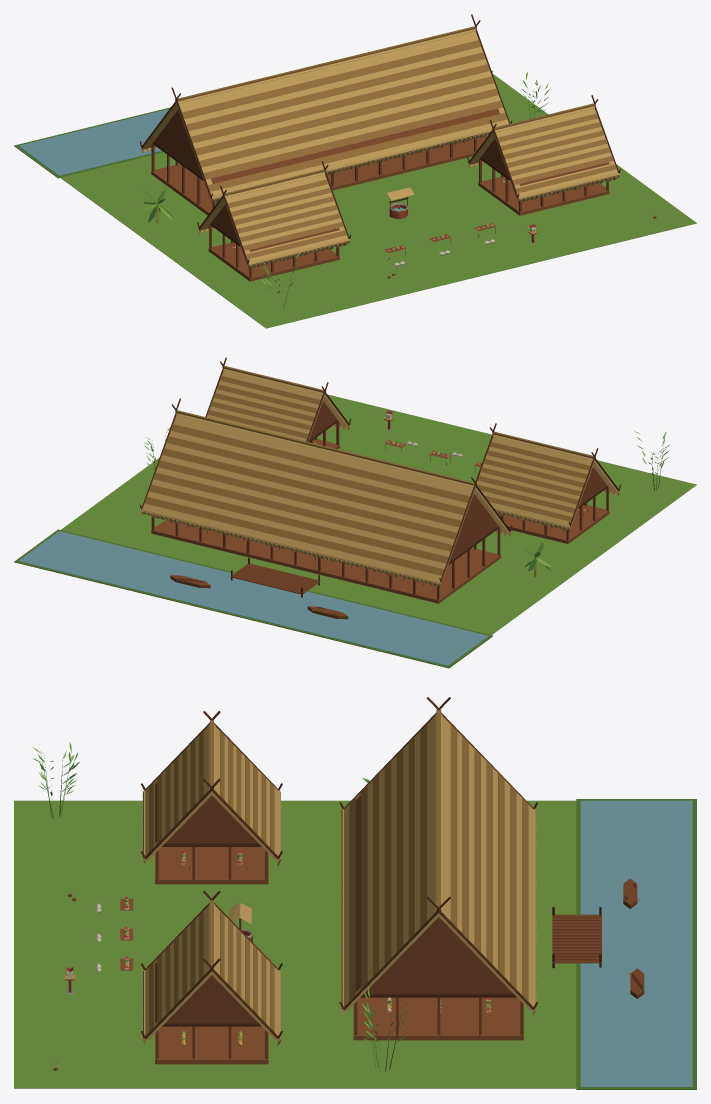
The model's file is market.glb.
3 renders of one model, top to bottom at view 1: azimuth 30°, elevation 25°; view 2: azimuth 150°, elevation 25°; view 3: azimuth 270°, elevation 25°, orthographic. The views are drawn at different scales.
Parts seen in each view (by area): view 1: body; view 2: body; view 3: body.
Part boxes in pixels (x1=…): body: x1=14, y1=14, x2=696, y2=328; body: x1=14, y1=357, x2=696, y2=668; body: x1=14, y1=697, x2=696, y2=1089.
Bounding box in the file's own units: 48.4 × 11.82 × 48.15.
